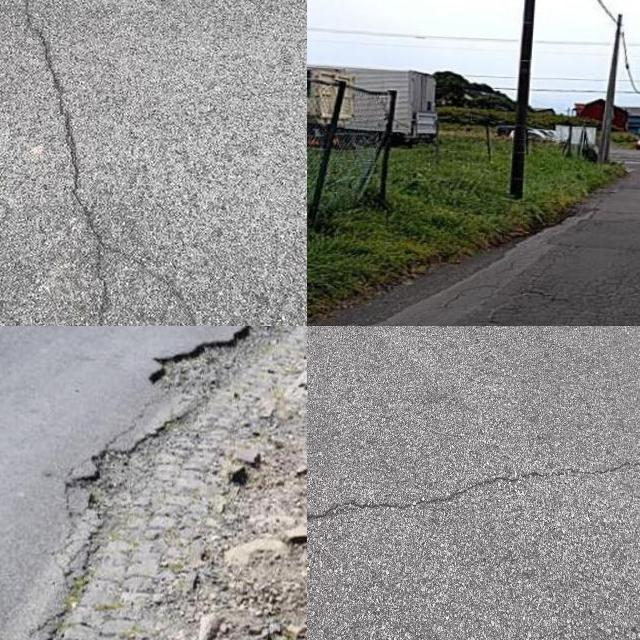Melintang: (307, 447, 640, 535)
Memanjang: (8, 0, 128, 326)
Pinggir: (48, 326, 307, 640)
